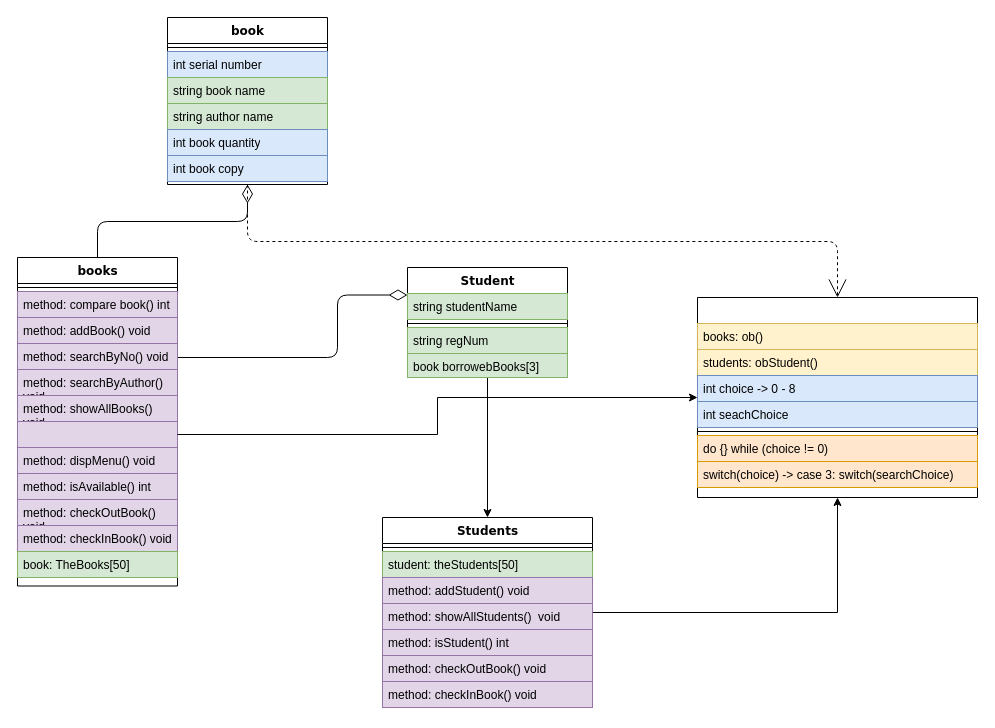
Some shapes in this 995 by 728 pixel diagram are drawn without their labels. Here are the shapes that lost their labels. From the top down, the box of each, then its label:
(696, 296, 978, 498): Main
(16, 420, 178, 448): method: upgradeQty() void
